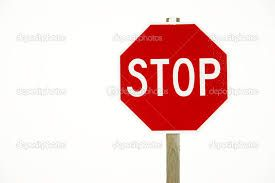stop_sign: (118, 23, 230, 133)
